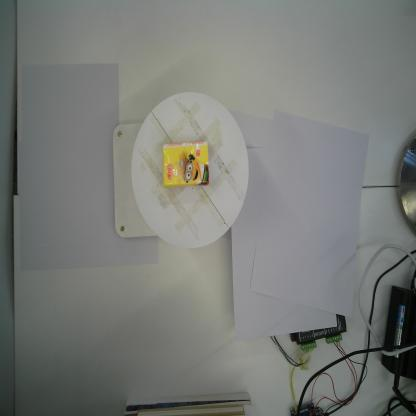Tissue: (162, 140, 210, 188)
